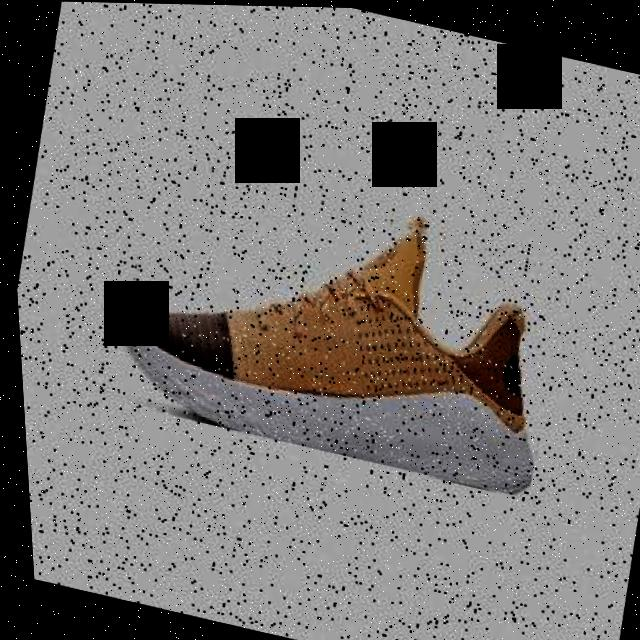shoe: (93, 151, 575, 497)
